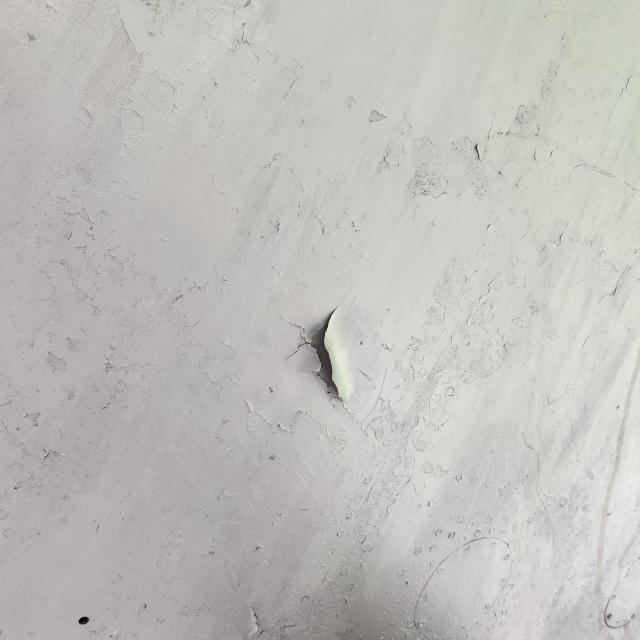paint-off: (226, 294, 346, 365)
